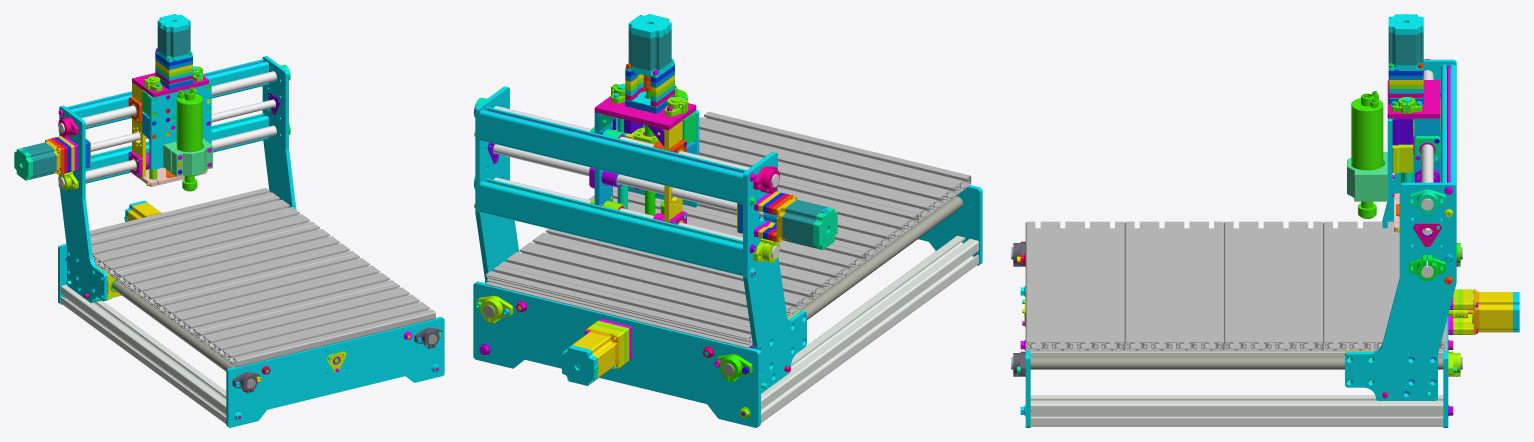
The model's file is cnc.glb.
3 renders of one model, left to right at view 1: azimuth 30°, elevation 25°; view 2: azimuth 150°, elevation 25°; view 3: azimuth 270°, elevation 25°, orthographic. The views are drawn at different scales.
Parts seen in each view (by area): view 1: ÇŔŇÓĎËĹÍÍŰÉ_ÓĂÎË1_16, CUT-EXTRUDE5, CUT-EXTRUDE5_2, CUT-EXTRUDE5_3, CUT-EXTRUDE5_1, ÁÎÁŰŘĘŔ-ÂŰŇ˙ÍÓŇÜ1_4, ÂŰĐĹÇ-ÂŰŇ˙ÍÓŇÜ7_1, ÂŰĐĹÇ-ÂŰŇ˙ÍÓŇÜ7, ÔŔŃĘŔ1_13, ÁÎÁŰŘĘŔ-ÂŰŇ˙ÍÓŇÜ1_3, ÂŰĐĹÇ-ÂŰŇ˙ÍÓŇÜ1_1, ÁÎÁŰŘĘŔ-ÂŰŇ˙ÍÓŇÜ7 (+14 smaller); view 2: ÇŔŇÓĎËĹÍÍŰÉ_ÓĂÎË1_9, CUT-EXTRUDE5, CUT-EXTRUDE5_1, ÁÎÁŰŘĘŔ-ÂŰŇ˙ÍÓŇÜ1_3, ÁÎÁŰŘĘŔ-ÂŰŇ˙ÍÓŇÜ1_2, ÁÎÁŰŘĘŔ-ÂŰŇ˙ÍÓŇÜ1_4, ÂŰĐĹÇ-ÂŰŇ˙ÍÓŇÜ7_1, ÂŰĐĹÇ-ÂŰŇ˙ÍÓŇÜ1_1, CUT-EXTRUDE5_2, CUT-EXTRUDE5_3, ÂŰĐĹÇ-ÂŰŇ˙ÍÓŇÜ7, ÁÎÁŰŘĘŔ-ÂŰŇ˙ÍÓŇÜ1_5 (+16 smaller); view 3: CUT-EXTRUDE5_2, CUT-EXTRUDE5, ÁÎÁŰŘĘŔ-ÂŰŇ˙ÍÓŇÜ1_8, CUT-EXTRUDE5_3, ÂŰĐĹÇ-ÂŰŇ˙ÍÓŇÜ7, CUT-EXTRUDE5_1, ÁÎÁŰŘĘŔ-ÂŰŇ˙ÍÓŇÜ1_7, ÁÎÁŰŘĘŔ-ÂŰŇ˙ÍÓŇÜ7, ÁÎÁŰŘĘŔ-ÂŰŇ˙ÍÓŇÜ1_9, ÁÎÁŰŘĘŔ-ÂŰŇ˙ÍÓŇÜ1_3, ÔŔŃĘŔ2_1, ÁÎÁŰŘĘŔ-ÂŰŇ˙ÍÓŇÜ5_1 (+13 smaller).
Part boxes in pixels (box(x1,y1,x2,y2)): ÇŔŇÓĎËĹÍÍŰÉ_ÓĂÎË1_16: box(226, 316, 444, 427); CUT-EXTRUDE5: box(197, 283, 435, 367); CUT-EXTRUDE5_2: box(157, 254, 395, 338); CUT-EXTRUDE5_3: box(117, 225, 355, 308); CUT-EXTRUDE5_1: box(91, 195, 315, 279); ÁÎÁŰŘĘŔ-ÂŰŇ˙ÍÓŇÜ1_4: box(60, 284, 226, 423); ÂŰĐĹÇ-ÂŰŇ˙ÍÓŇÜ7_1: box(59, 105, 107, 302); ÂŰĐĹÇ-ÂŰŇ˙ÍÓŇÜ7: box(262, 56, 298, 214); ÔŔŃĘŔ1_13: box(149, 82, 211, 170); ÁÎÁŰŘĘŔ-ÂŰŇ˙ÍÓŇÜ1_3: box(66, 59, 268, 129); ÂŰĐĹÇ-ÂŰŇ˙ÍÓŇÜ1_1: box(89, 188, 275, 240); ÁÎÁŰŘĘŔ-ÂŰŇ˙ÍÓŇÜ7: box(176, 87, 202, 191); ÇŔŇÓĎËĹÍÍŰÉ_ÓĂÎË1_9: box(473, 281, 760, 427); CUT-EXTRUDE5: box(699, 111, 971, 222); CUT-EXTRUDE5_1: box(499, 228, 813, 327); ÁÎÁŰŘĘŔ-ÂŰŇ˙ÍÓŇÜ1_3: box(479, 106, 746, 204); ÁÎÁŰŘĘŔ-ÂŰŇ˙ÍÓŇÜ1_2: box(479, 178, 742, 275); ÁÎÁŰŘĘŔ-ÂŰŇ˙ÍÓŇÜ1_4: box(761, 235, 978, 422); ÂŰĐĹÇ-ÂŰŇ˙ÍÓŇÜ7_1: box(743, 151, 806, 393); ÂŰĐĹÇ-ÂŰŇ˙ÍÓŇÜ1_1: box(485, 266, 752, 348); CUT-EXTRUDE5_2: box(613, 180, 918, 260); CUT-EXTRUDE5_3: box(588, 191, 865, 299); ÂŰĐĹÇ-ÂŰŇ˙ÍÓŇÜ7: box(475, 86, 519, 282); ÁÎÁŰŘĘŔ-ÂŰŇ˙ÍÓŇÜ1_5: box(722, 196, 962, 376); CUT-EXTRUDE5_2: box(1124, 221, 1223, 351); CUT-EXTRUDE5: box(1025, 221, 1124, 351); ÁÎÁŰŘĘŔ-ÂŰŇ˙ÍÓŇÜ1_8: box(1030, 395, 1443, 426); CUT-EXTRUDE5_3: box(1224, 221, 1322, 351); ÂŰĐĹÇ-ÂŰŇ˙ÍÓŇÜ7: box(1345, 182, 1456, 400); CUT-EXTRUDE5_1: box(1323, 221, 1413, 351); ÁÎÁŰŘĘŔ-ÂŰŇ˙ÍÓŇÜ1_7: box(1011, 357, 1462, 369); ÁÎÁŰŘĘŔ-ÂŰŇ˙ÍÓŇÜ7: box(1351, 91, 1383, 218); ÁÎÁŰŘĘŔ-ÂŰŇ˙ÍÓŇÜ1_9: box(1030, 350, 1443, 357); ÁÎÁŰŘĘŔ-ÂŰŇ˙ÍÓŇÜ1_3: box(1441, 64, 1456, 184); ÔŔŃĘŔ2_1: box(1347, 152, 1387, 201); ÁÎÁŰŘĘŔ-ÂŰŇ˙ÍÓŇÜ5_1: box(1479, 292, 1512, 332).
Bounding box in the file's own units: 616 × 599 × 820.
